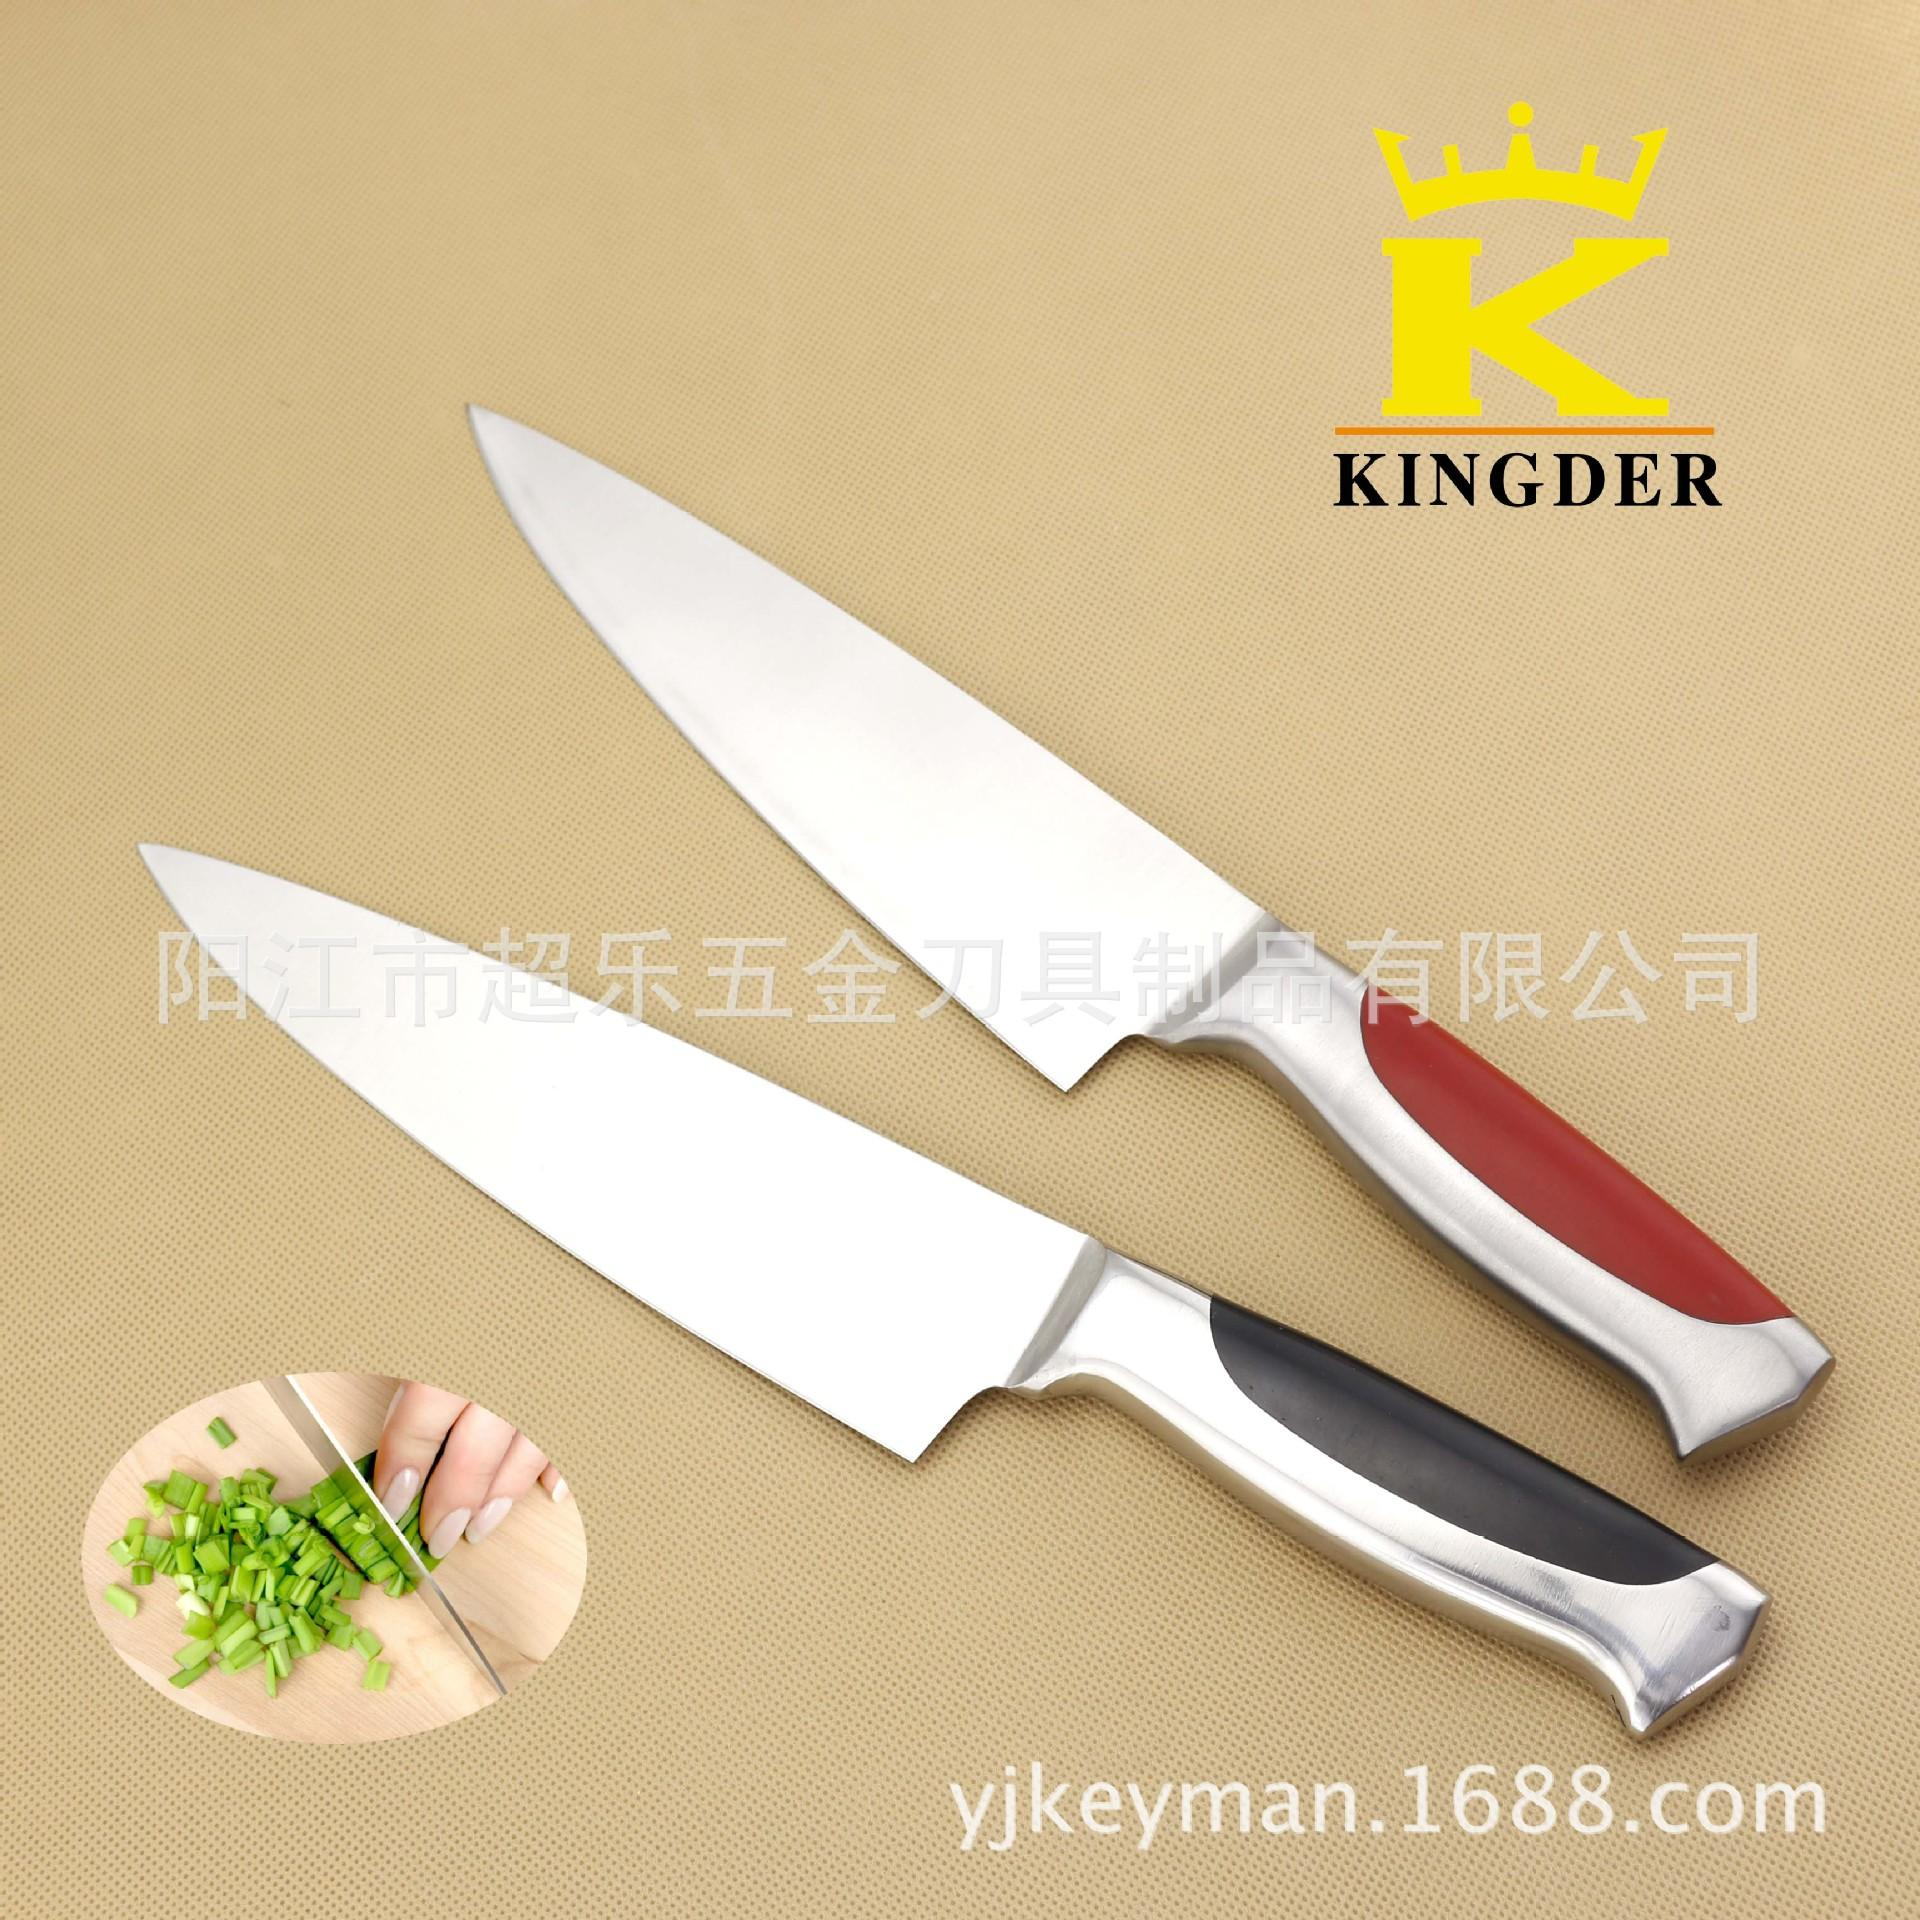knife: (77, 311, 1851, 1804)
